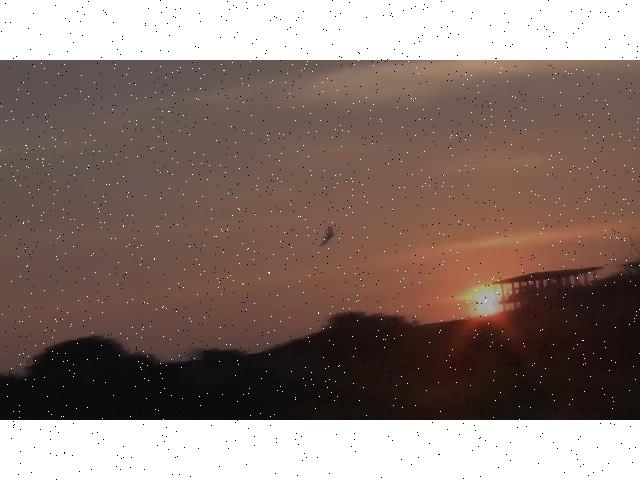Anti-Drone: (320, 226, 334, 247)
